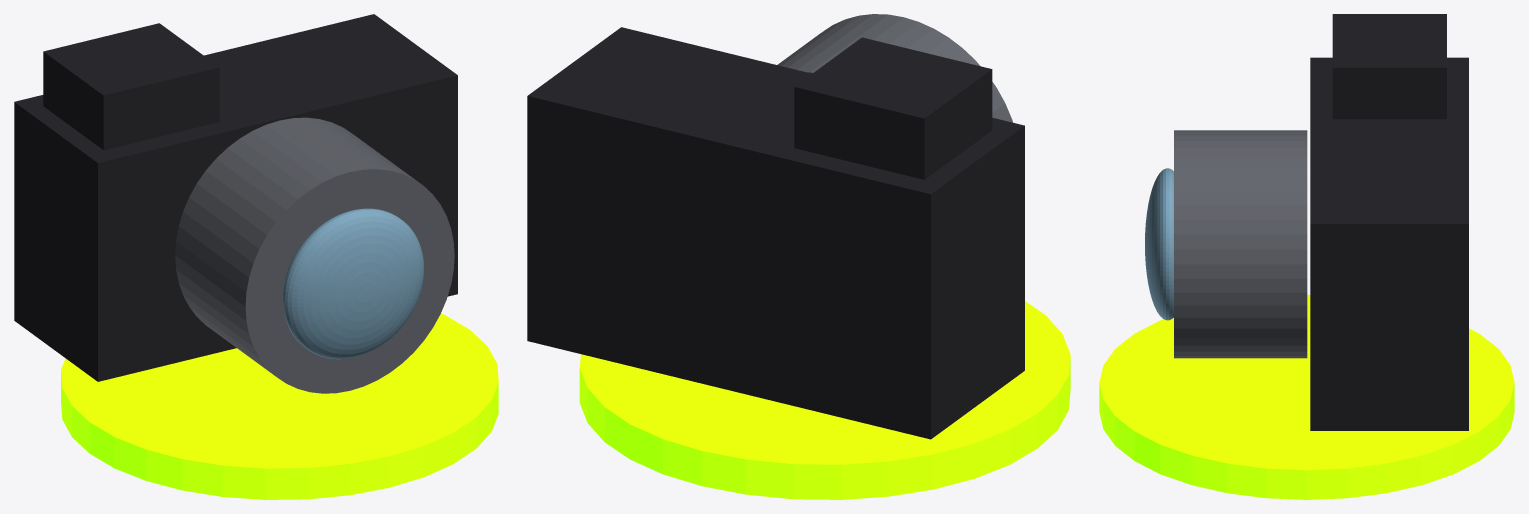
The model's file is tech_camera.glb.
The picture shows the model from 3 angles, left to right: view 1: azimuth 30°, elevation 25°; view 2: azimuth 150°, elevation 25°; view 3: azimuth 270°, elevation 25°; orthographic projection. The views are drawn at different scales.
Parts seen in each view (by area): view 1: 08_09_Popular_Tech_Camera_part_01, 08_09_Popular_Tech_Camera_ROOT_base, 08_09_Popular_Tech_Camera_part_02, 08_09_Popular_Tech_Camera_part_04, 08_09_Popular_Tech_Camera_part_03; view 2: 08_09_Popular_Tech_Camera_part_01, 08_09_Popular_Tech_Camera_ROOT_base, 08_09_Popular_Tech_Camera_part_04, 08_09_Popular_Tech_Camera_part_02; view 3: 08_09_Popular_Tech_Camera_part_01, 08_09_Popular_Tech_Camera_ROOT_base, 08_09_Popular_Tech_Camera_part_02, 08_09_Popular_Tech_Camera_part_04, 08_09_Popular_Tech_Camera_part_03.
Boxes of the visible parts, <box> form: 08_09_Popular_Tech_Camera_part_01: <box>14,14,457,381</box>; 08_09_Popular_Tech_Camera_ROOT_base: <box>61,313,498,499</box>; 08_09_Popular_Tech_Camera_part_02: <box>175,117,454,393</box>; 08_09_Popular_Tech_Camera_part_04: <box>43,23,219,150</box>; 08_09_Popular_Tech_Camera_part_03: <box>282,208,423,359</box>; 08_09_Popular_Tech_Camera_part_01: <box>527,27,1024,439</box>; 08_09_Popular_Tech_Camera_ROOT_base: <box>579,301,1070,499</box>; 08_09_Popular_Tech_Camera_part_04: <box>794,37,992,179</box>; 08_09_Popular_Tech_Camera_part_02: <box>777,14,1012,122</box>; 08_09_Popular_Tech_Camera_part_01: <box>1310,57,1468,430</box>; 08_09_Popular_Tech_Camera_ROOT_base: <box>1099,294,1514,499</box>; 08_09_Popular_Tech_Camera_part_02: <box>1174,130,1307,358</box>; 08_09_Popular_Tech_Camera_part_04: <box>1332,14,1446,119</box>; 08_09_Popular_Tech_Camera_part_03: <box>1145,168,1173,320</box>.
Bounding box in the file's own units: 0.76 × 0.6526 × 0.76.
